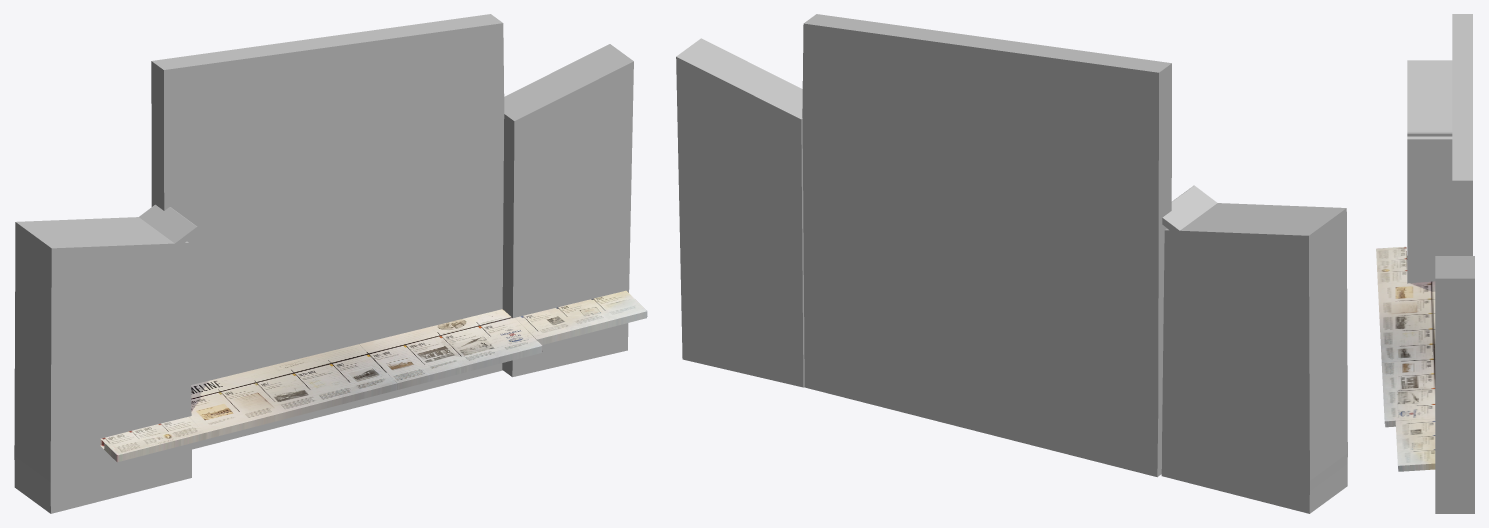
Rendered from show1.fbx.
The picture shows the model from 3 angles, left to right: view 1: azimuth 30°, elevation 25°; view 2: azimuth 150°, elevation 25°; view 3: azimuth 270°, elevation 25°; orthographic projection. The views are drawn at different scales.
Visible parts, largest first — view 1: Plane.001, Plane, Plane.002, Plane.003; view 2: Plane.001, Plane, Plane.002; view 3: Plane.003, Plane.002, Plane, Plane.001.
Boxes of the visible parts, x1=… form: Plane.001: x1=151, y1=14, x2=504, y2=449; Plane: x1=14, y1=204, x2=199, y2=513; Plane.002: x1=502, y1=44, x2=633, y2=377; Plane.003: x1=100, y1=290, x2=647, y2=462; Plane.001: x1=802, y1=14, x2=1171, y2=477; Plane: x1=1161, y1=185, x2=1347, y2=513; Plane.002: x1=676, y1=38, x2=804, y2=387; Plane.003: x1=1376, y1=246, x2=1435, y2=471; Plane.002: x1=1435, y1=256, x2=1474, y2=513; Plane: x1=1407, y1=60, x2=1452, y2=283; Plane.001: x1=1452, y1=14, x2=1472, y2=255.
Bounding box in the file's own units: 3137 × 1946 × 542.
